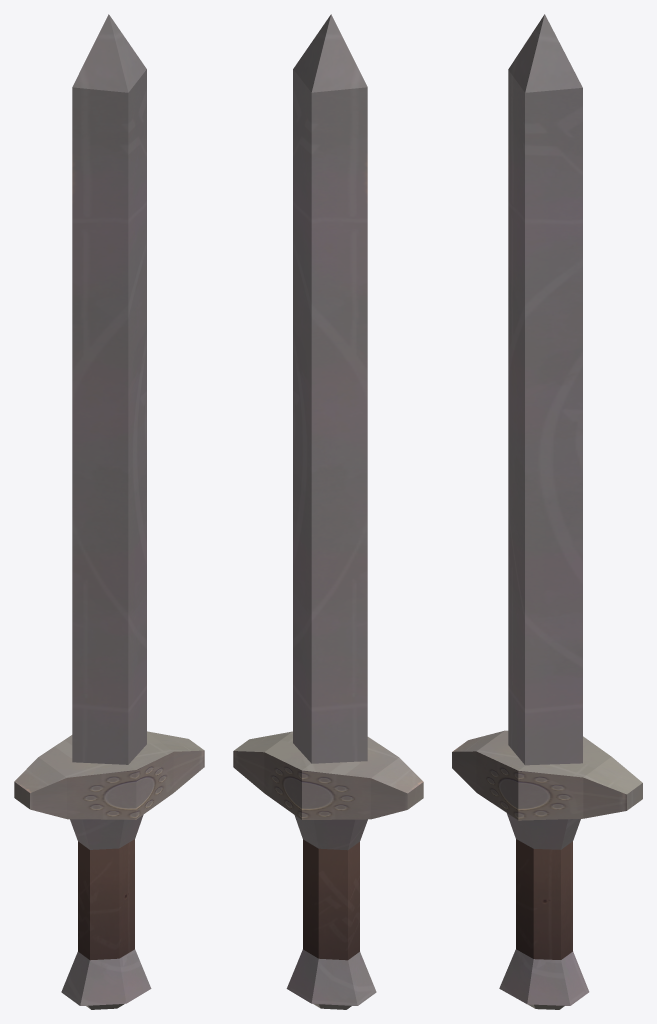
The model's file is prop_weapon_sword C.fbx.
3 renders of one model, left to right at view 1: azimuth 30°, elevation 25°; view 2: azimuth 150°, elevation 25°; view 3: azimuth 330°, elevation 25°, orthographic.
Visible parts, largest first — view 1: prop_weapon_sword C; view 2: prop_weapon_sword C; view 3: prop_weapon_sword C.
Boxes of the visible parts, x1,y1,x2,y2 form: prop_weapon_sword C: (14,14,204,1009); prop_weapon_sword C: (233,14,423,1009); prop_weapon_sword C: (452,14,642,1009).
Bounding box in the file's own units: 12.61 × 68.17 × 6.97.
